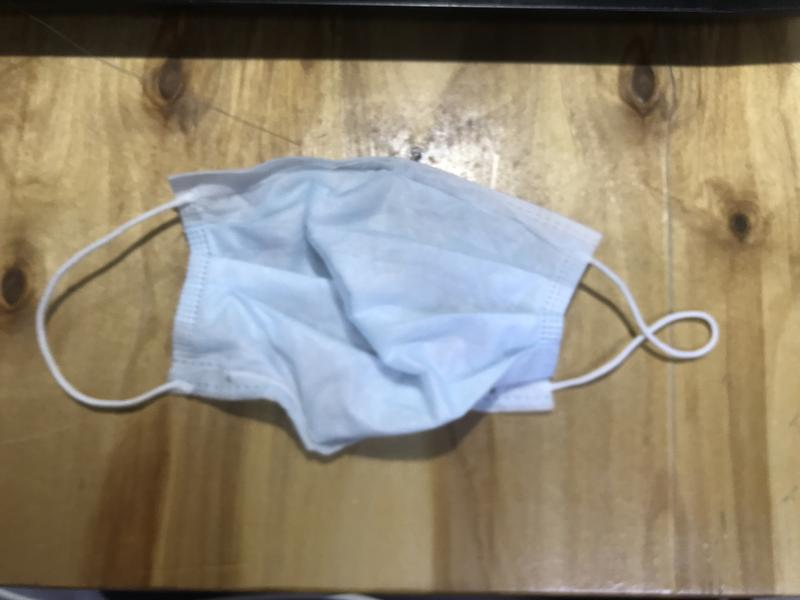medical_mask: (35, 158, 718, 461)
